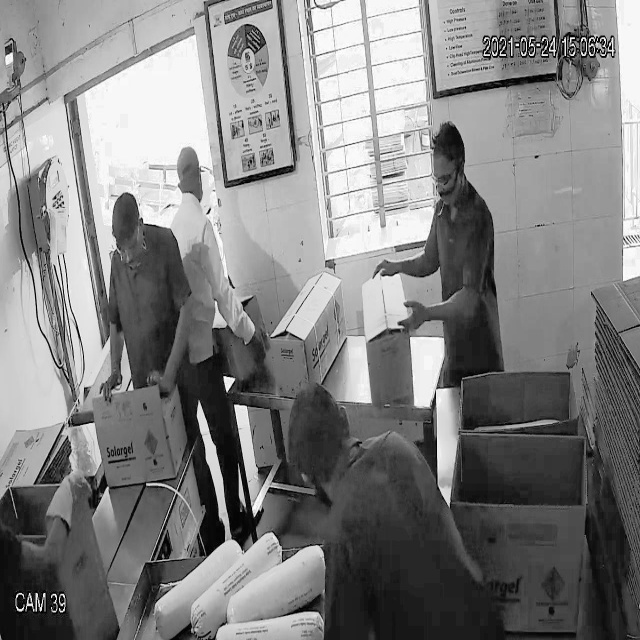Gafas: (427, 159, 467, 193)
